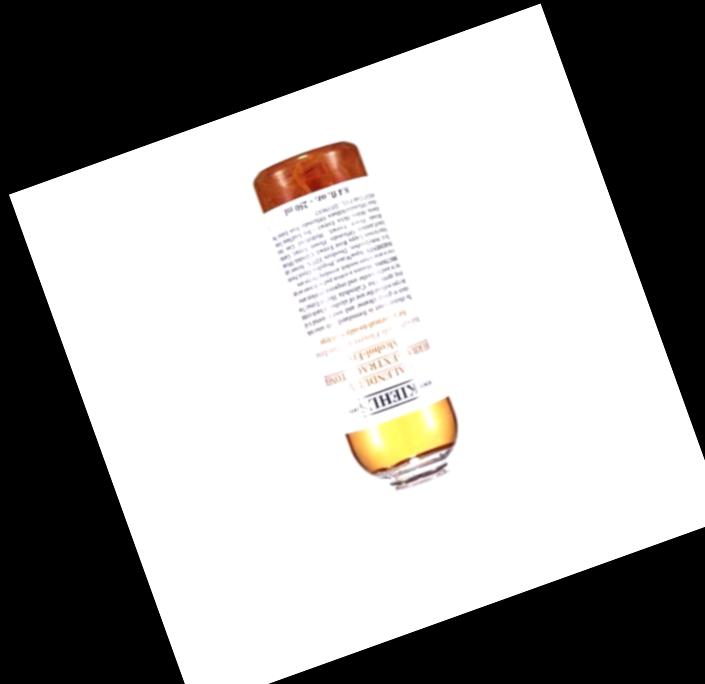cosmetic: (248, 133, 495, 569)
